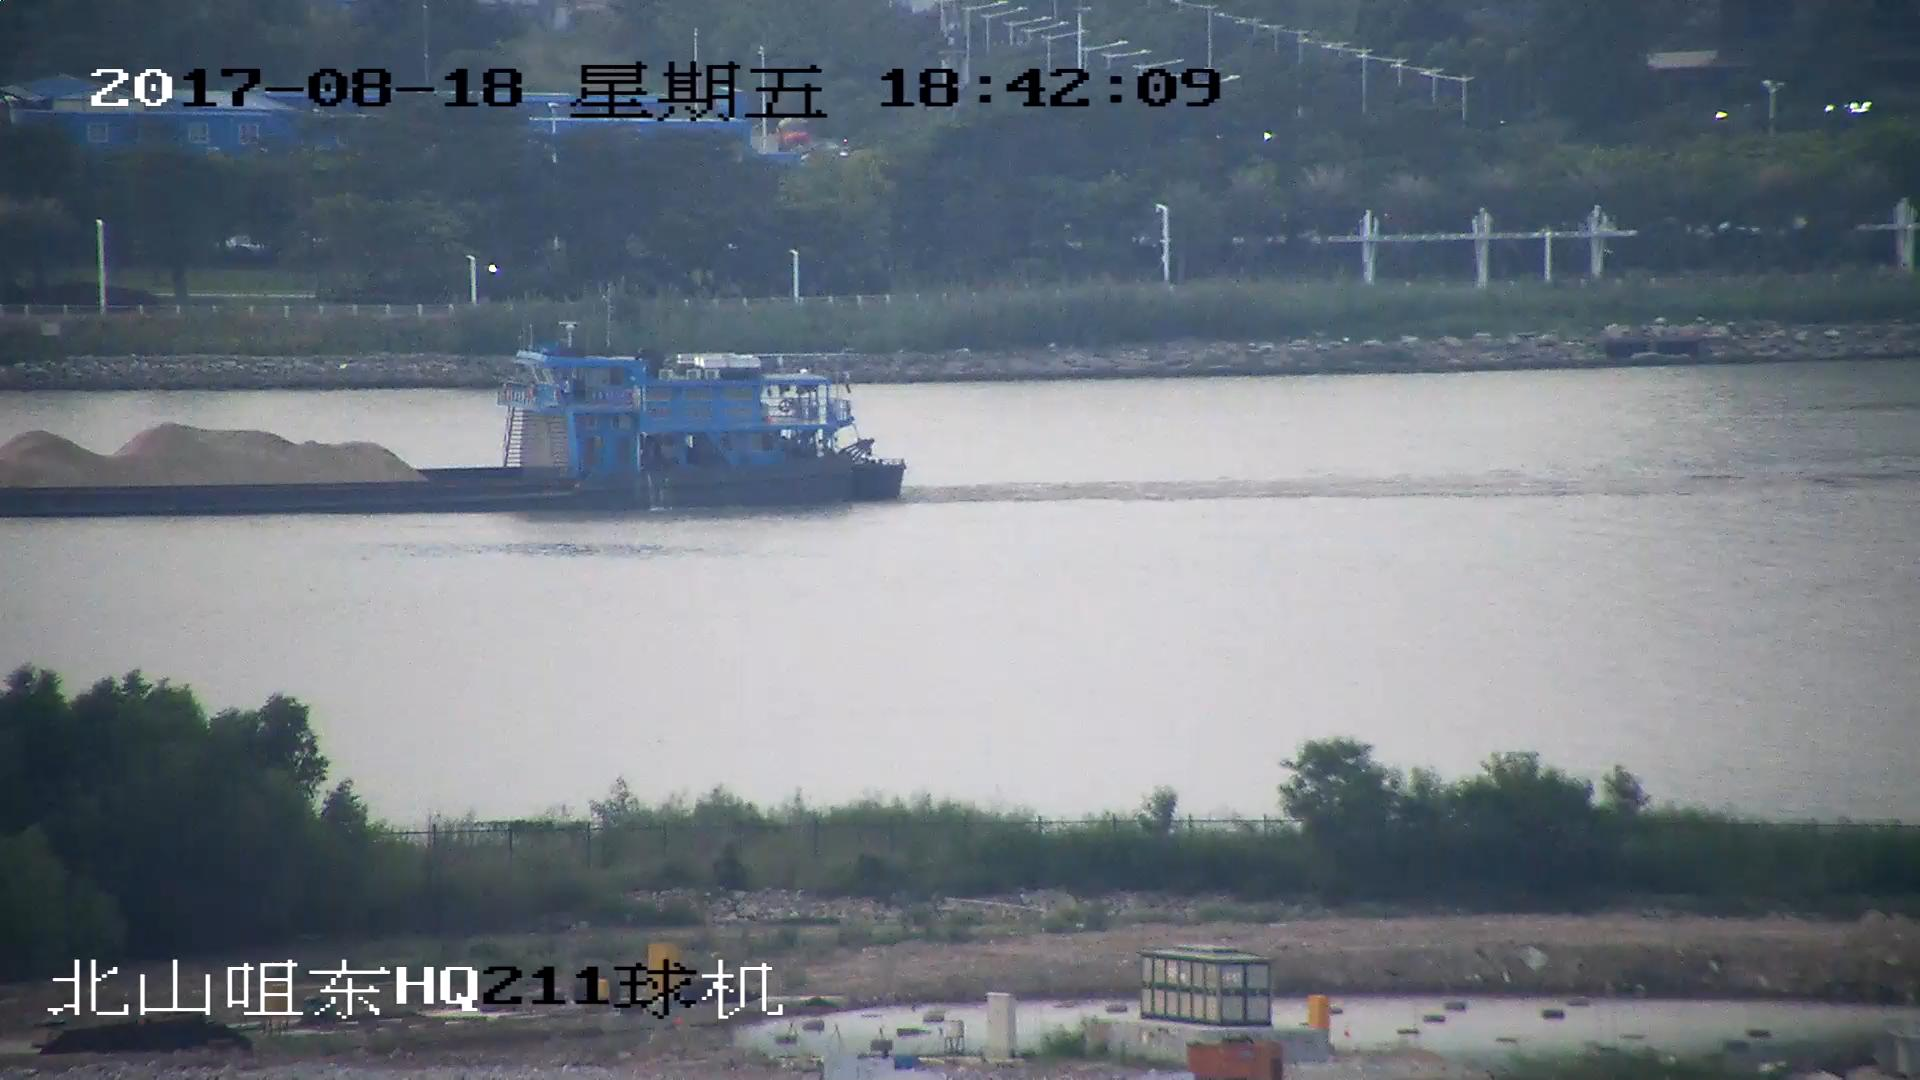ore carrier: (1, 330, 909, 515)
